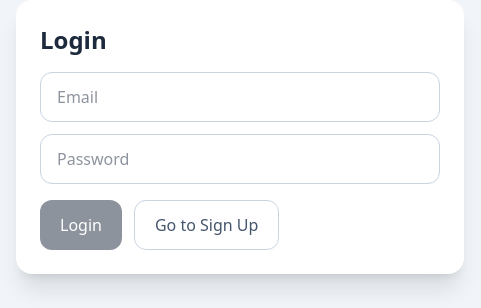
it: Go to Sign Up を押すと Sign Up 画面に切り替わる
Click the button "Go to Sign Up". click: (207, 225)
box: 134,200 -> 279,250
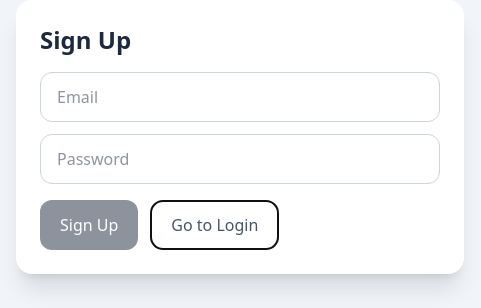
Now the heading "Sign Up" is shown, box 40,23 -> 131,56
Now the button "Sign Up" is shown, box 40,200 -> 138,250
Now the button "Go to Login" is shown, box 150,200 -> 279,250
